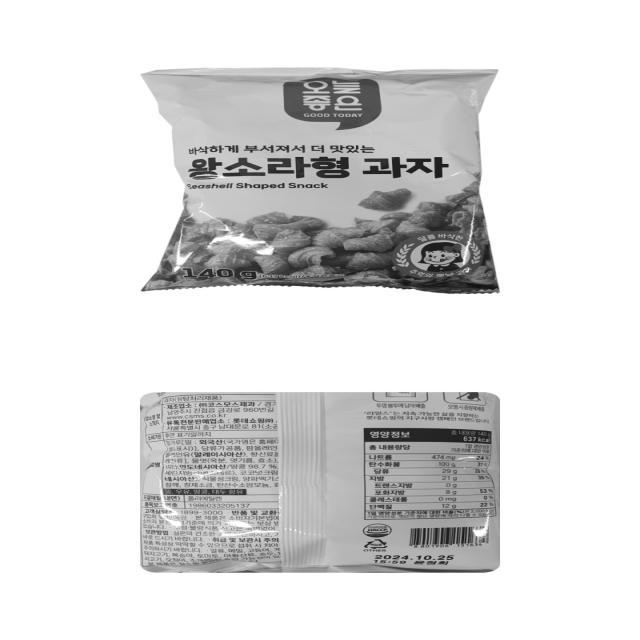Nutrition Label: (350, 423, 510, 529)
